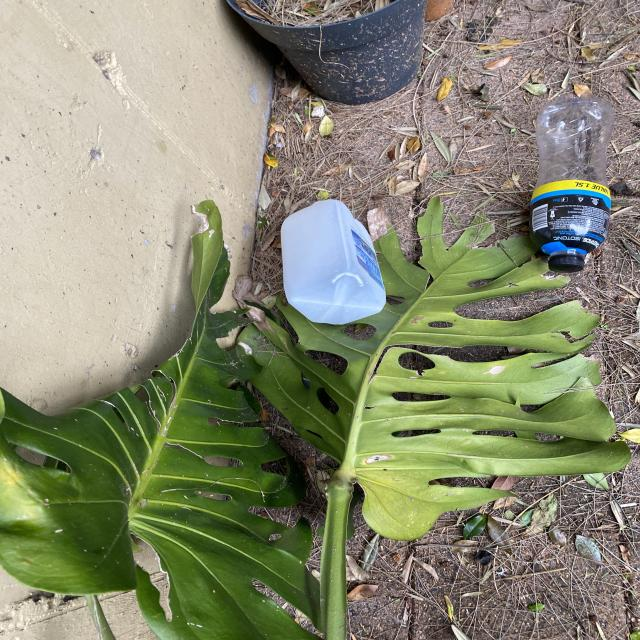bottle: (271, 195, 394, 327), (533, 94, 618, 272)
container: (233, 3, 427, 102), (421, 0, 468, 30)
